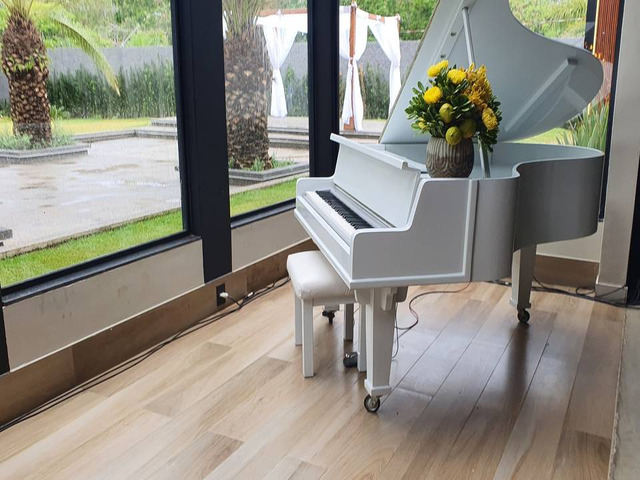Piano: (287, 3, 605, 427)
